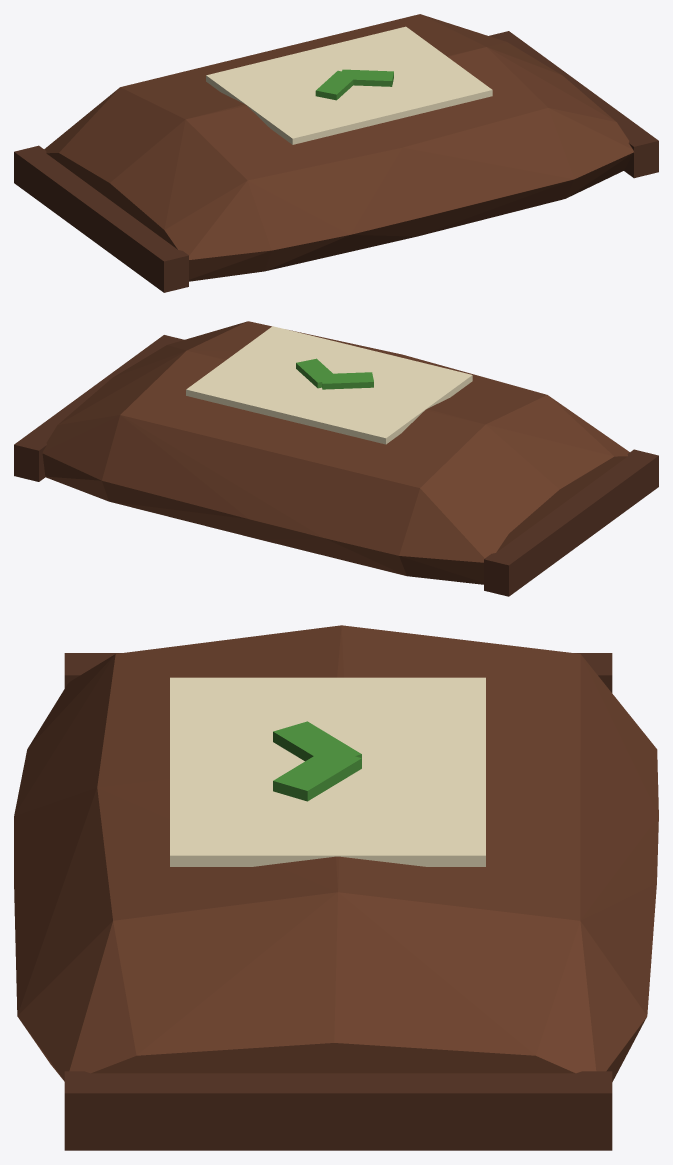
The model's file is prop_mulch_bag.glb.
3 views of the same model, one above another, from view 1: azimuth 30°, elevation 25°; view 2: azimuth 150°, elevation 25°; view 3: azimuth 270°, elevation 25° (orthographic). The views are drawn at different scales.
Visible parts, largest first — view 1: prop_mulch_bag; view 2: prop_mulch_bag; view 3: prop_mulch_bag.
Part boxes in pixels (<box>): prop_mulch_bag: <box>14,14,658,292</box>; prop_mulch_bag: <box>14,321,658,596</box>; prop_mulch_bag: <box>14,625,658,1150</box>.
Size of the model in its own units: 0.99 by 0.192 by 0.6128.
